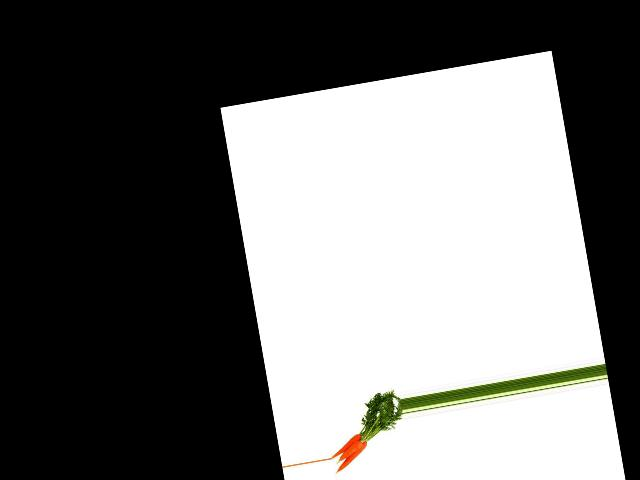carrot: (328, 432, 363, 459)
